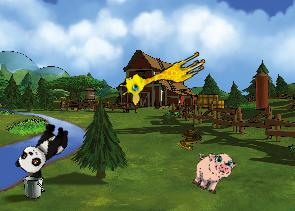giraffe: (115, 40, 209, 109)
panda: (12, 116, 74, 182)
pig: (187, 145, 238, 198)
